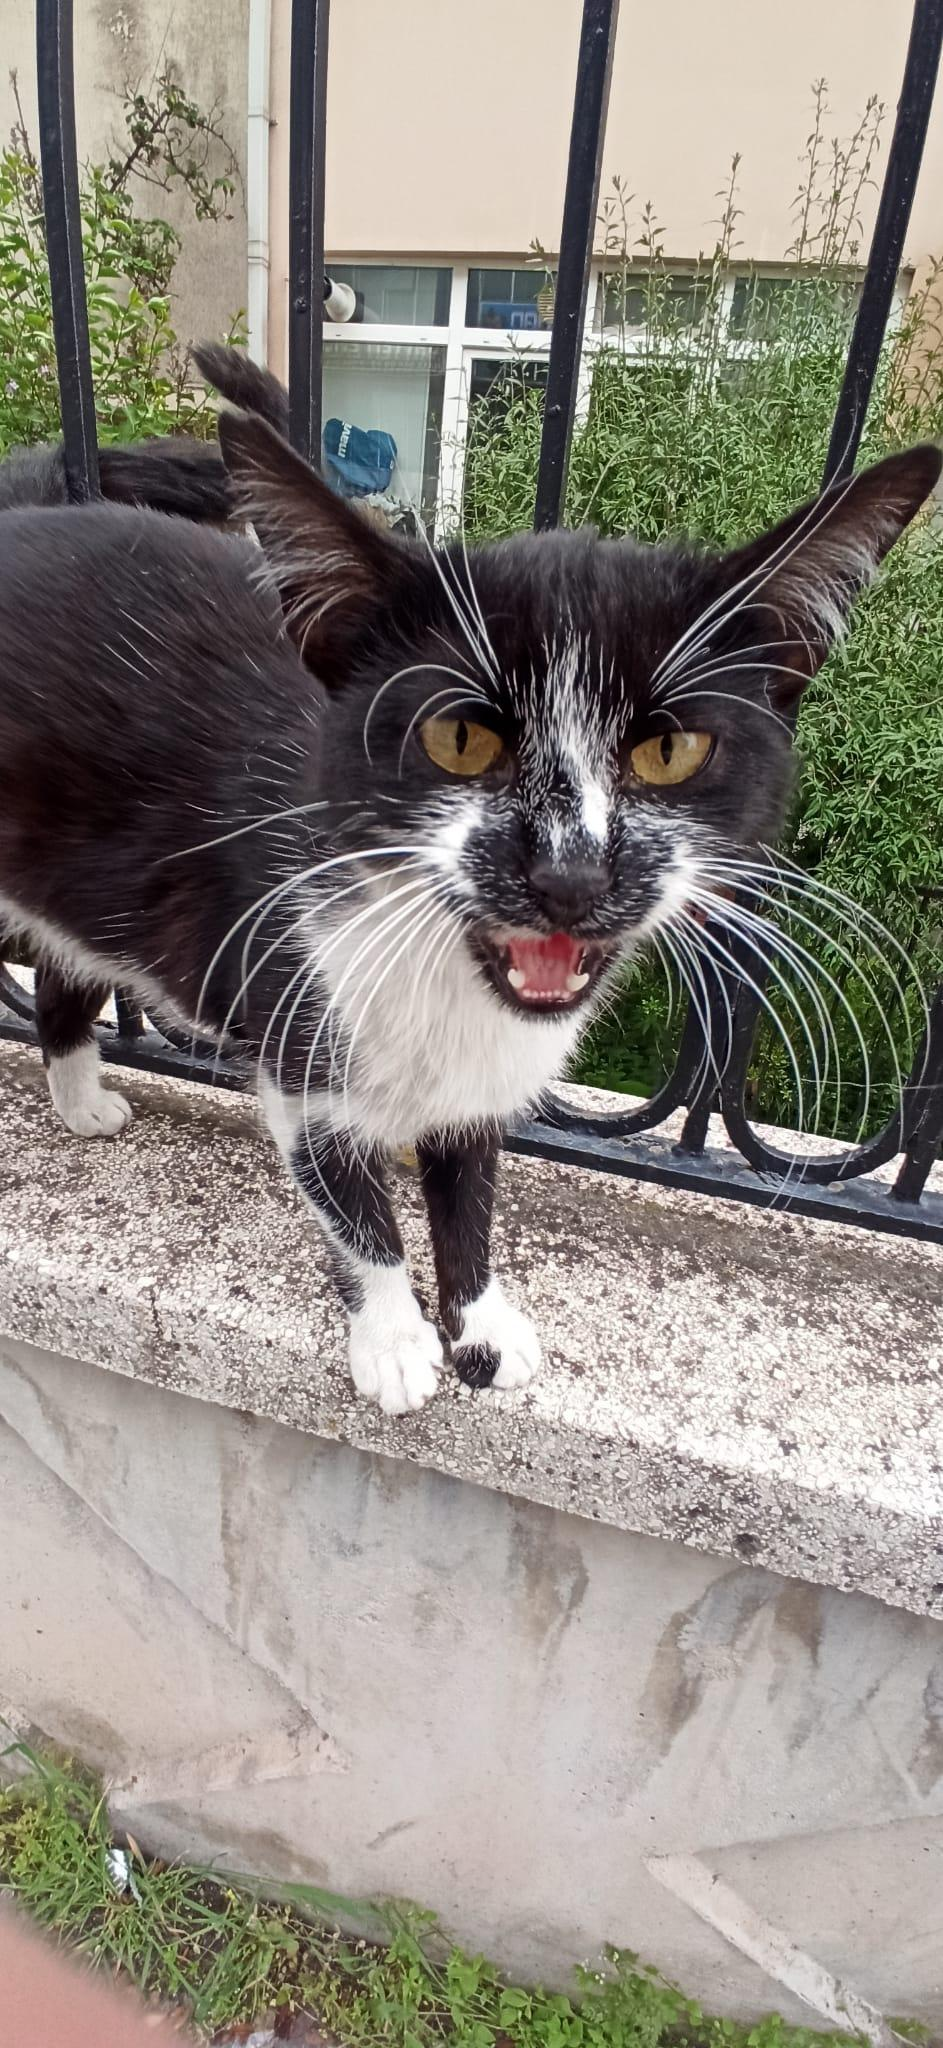kedo: (13, 434, 942, 1413)
